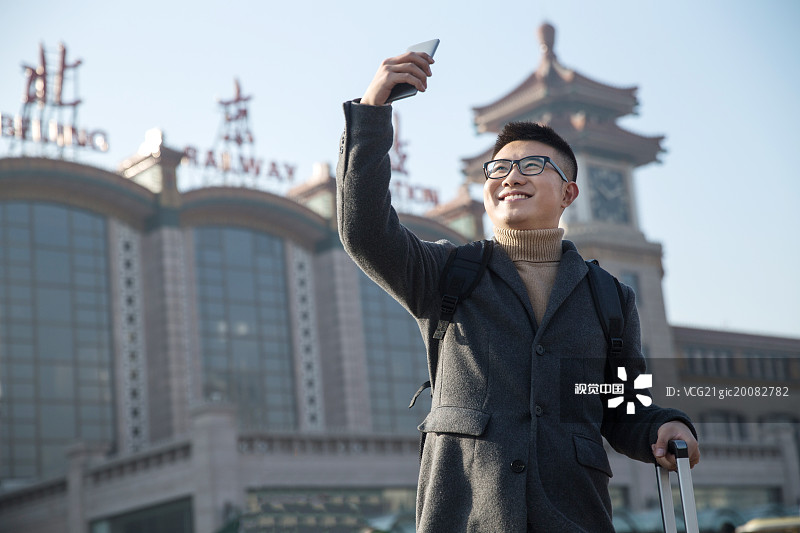no-phone: (640, 413, 710, 476)
taking photos: (357, 27, 448, 125)
